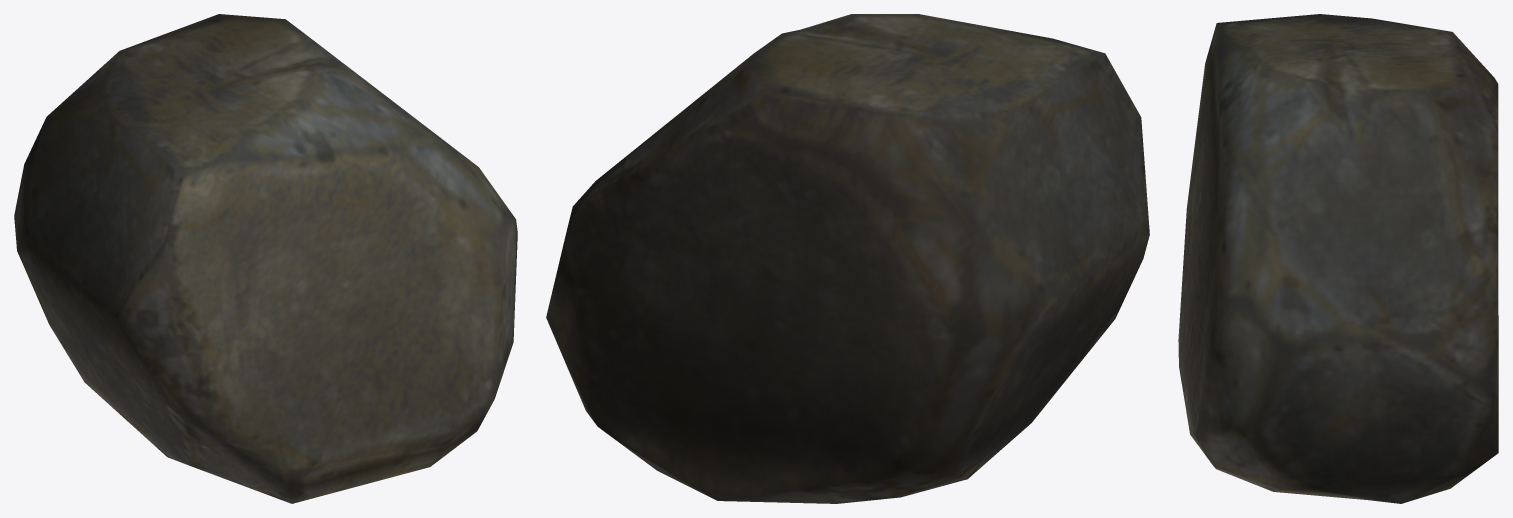
Rendered from rock_detail_05.obj.
The picture shows the model from 3 angles, left to right: view 1: azimuth 30°, elevation 25°; view 2: azimuth 150°, elevation 25°; view 3: azimuth 270°, elevation 25°; orthographic projection. The views are drawn at different scales.
Visible parts, largest first — view 1: rock_detail_05; view 2: rock_detail_05; view 3: rock_detail_05.
Boxes of the visible parts, x1,y1,x2,y2 form: rock_detail_05: (14, 14, 517, 503); rock_detail_05: (546, 14, 1149, 503); rock_detail_05: (1178, 14, 1498, 503).
Bounding box in the file's own units: 3 × 2.55 × 2.03.
Materials: 1 (1 with a texture image).
